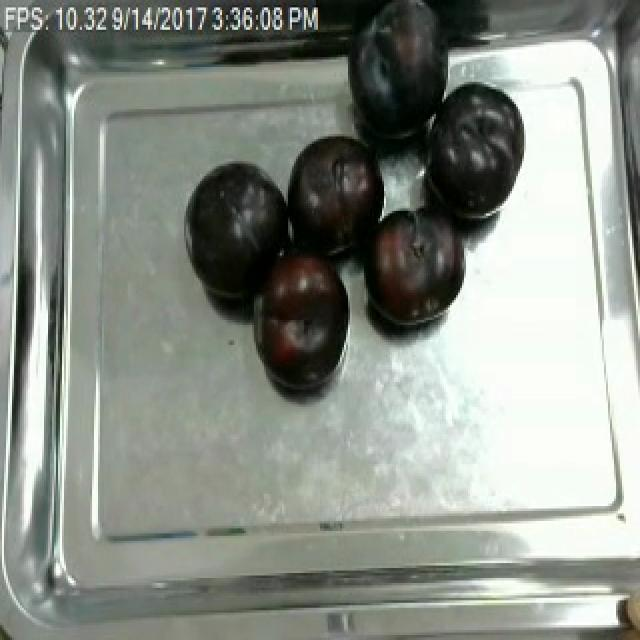Fruit: (416, 74, 532, 231), (242, 238, 356, 395), (182, 156, 296, 308), (352, 196, 472, 335), (280, 124, 390, 268)
